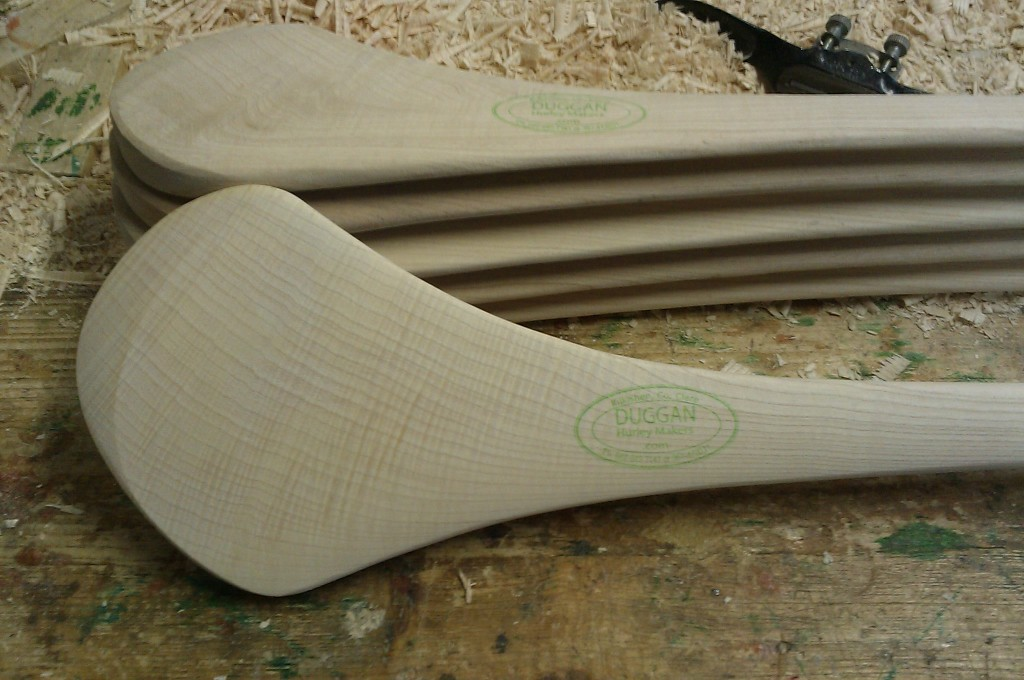hurley: (71, 181, 1023, 597)
